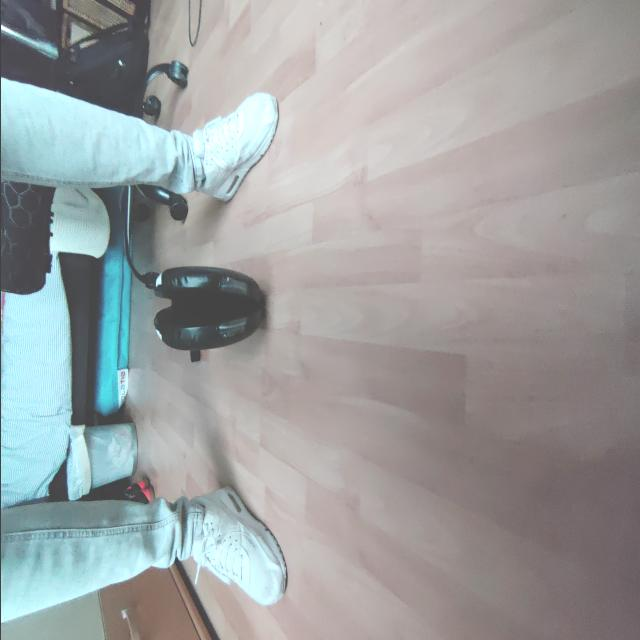paddle: (152, 266, 266, 352)
